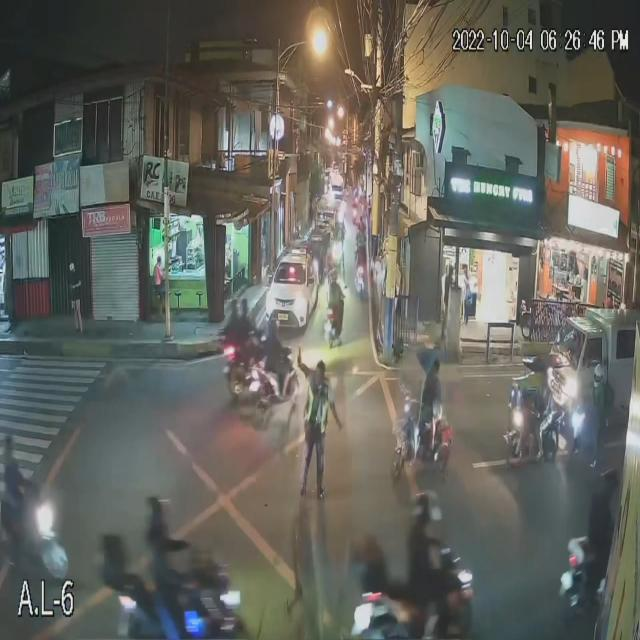Full-Faced: (147, 489, 175, 544), (590, 361, 605, 387), (266, 316, 279, 344), (230, 294, 245, 316), (239, 294, 251, 318)
Half-Faced: (409, 485, 435, 532)
